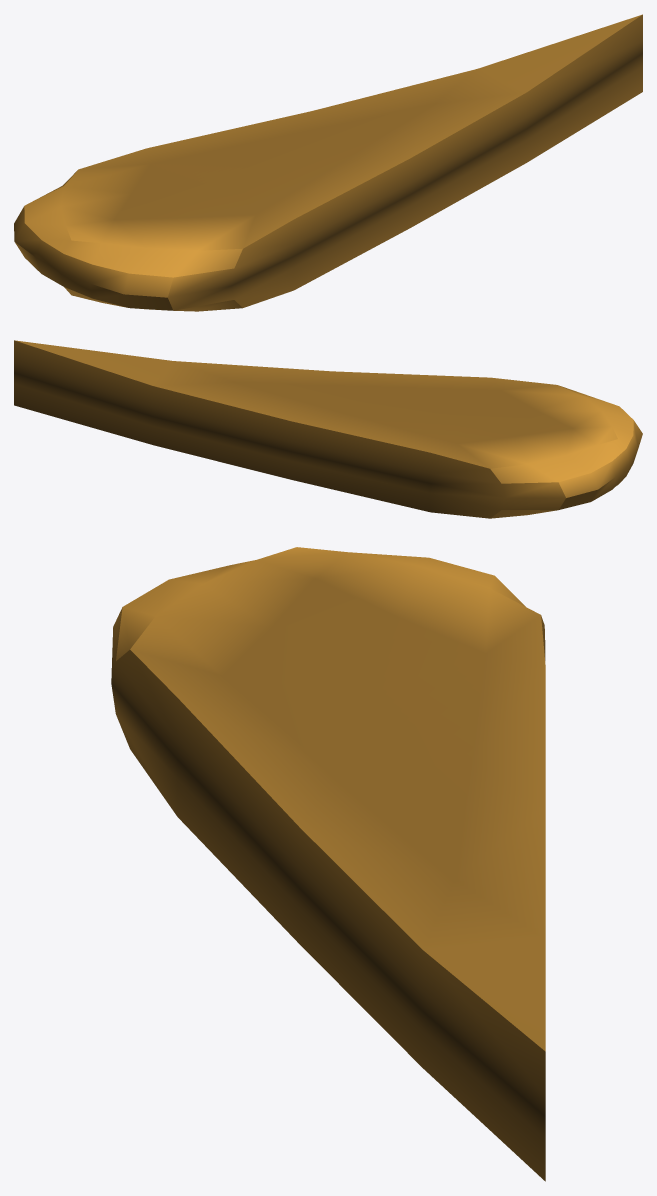
Rendered from WoodenPlatform1_1.1.fbx.
3 renders of one model, top to bottom at view 1: azimuth 30°, elevation 25°; view 2: azimuth 150°, elevation 25°; view 3: azimuth 270°, elevation 25°, orthographic. The views are drawn at different scales.
Visible parts, largest first — view 1: WoodenPlatform; view 2: WoodenPlatform; view 3: WoodenPlatform.
Part boxes in pixels (x1=…): WoodenPlatform: x1=14, y1=14, x2=642, y2=311; WoodenPlatform: x1=14, y1=340, x2=642, y2=518; WoodenPlatform: x1=111, y1=547, x2=545, y2=1181.
Bounding box in the file's own units: 100 × 13.24 × 33.86.
